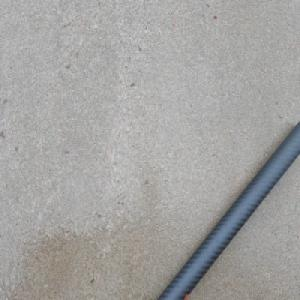LuggagePart: (151, 119, 300, 300)
